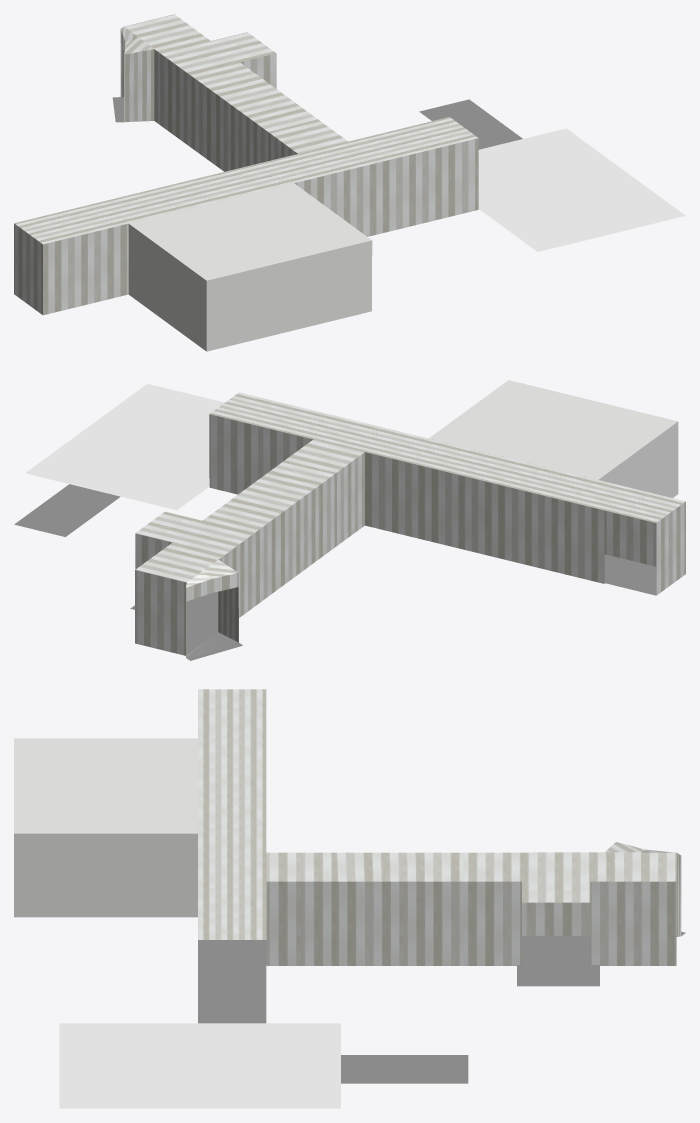
File: floorplan2.fbx
The picture shows the model from 3 angles, top to bottom: view 1: azimuth 30°, elevation 25°; view 2: azimuth 150°, elevation 25°; view 3: azimuth 270°, elevation 25°; orthographic projection. The views are drawn at different scales.
Parts seen in each view (by area): view 1: Wall__7__001, OIbamaRoom.001, ConferenceRoom.001, Cube__5__001; view 2: Wall__7__001, OIbamaRoom.001, ConferenceRoom.001, Cube__5_.002, Cube__5__001; view 3: Wall__7__001, OIbamaRoom.001, ConferenceRoom.001, Cube__5_.002, Cube__5__001.
Boxes of the visible parts, x1,y1,x2,y2 form: Wall__7__001: [14, 14, 478, 315]; OIbamaRoom.001: [128, 183, 372, 351]; ConferenceRoom.001: [478, 128, 685, 251]; Cube__5__001: [419, 99, 522, 149]; Wall__7__001: [135, 392, 685, 656]; OIbamaRoom.001: [429, 380, 678, 497]; ConferenceRoom.001: [25, 383, 224, 510]; Cube__5_.002: [130, 554, 656, 660]; Cube__5__001: [14, 484, 120, 536]; Wall__7__001: [198, 689, 681, 965]; OIbamaRoom.001: [14, 738, 197, 917]; ConferenceRoom.001: [59, 1023, 340, 1108]; Cube__5_.002: [198, 931, 685, 1023]; Cube__5__001: [341, 1055, 468, 1083].
Bounding box in the file's own units: 3207 × 378 × 2710.
